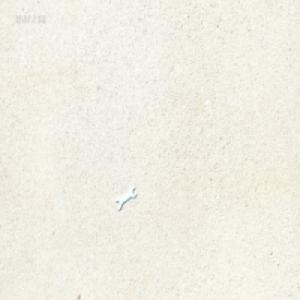Wrench: (115, 186, 137, 212)
